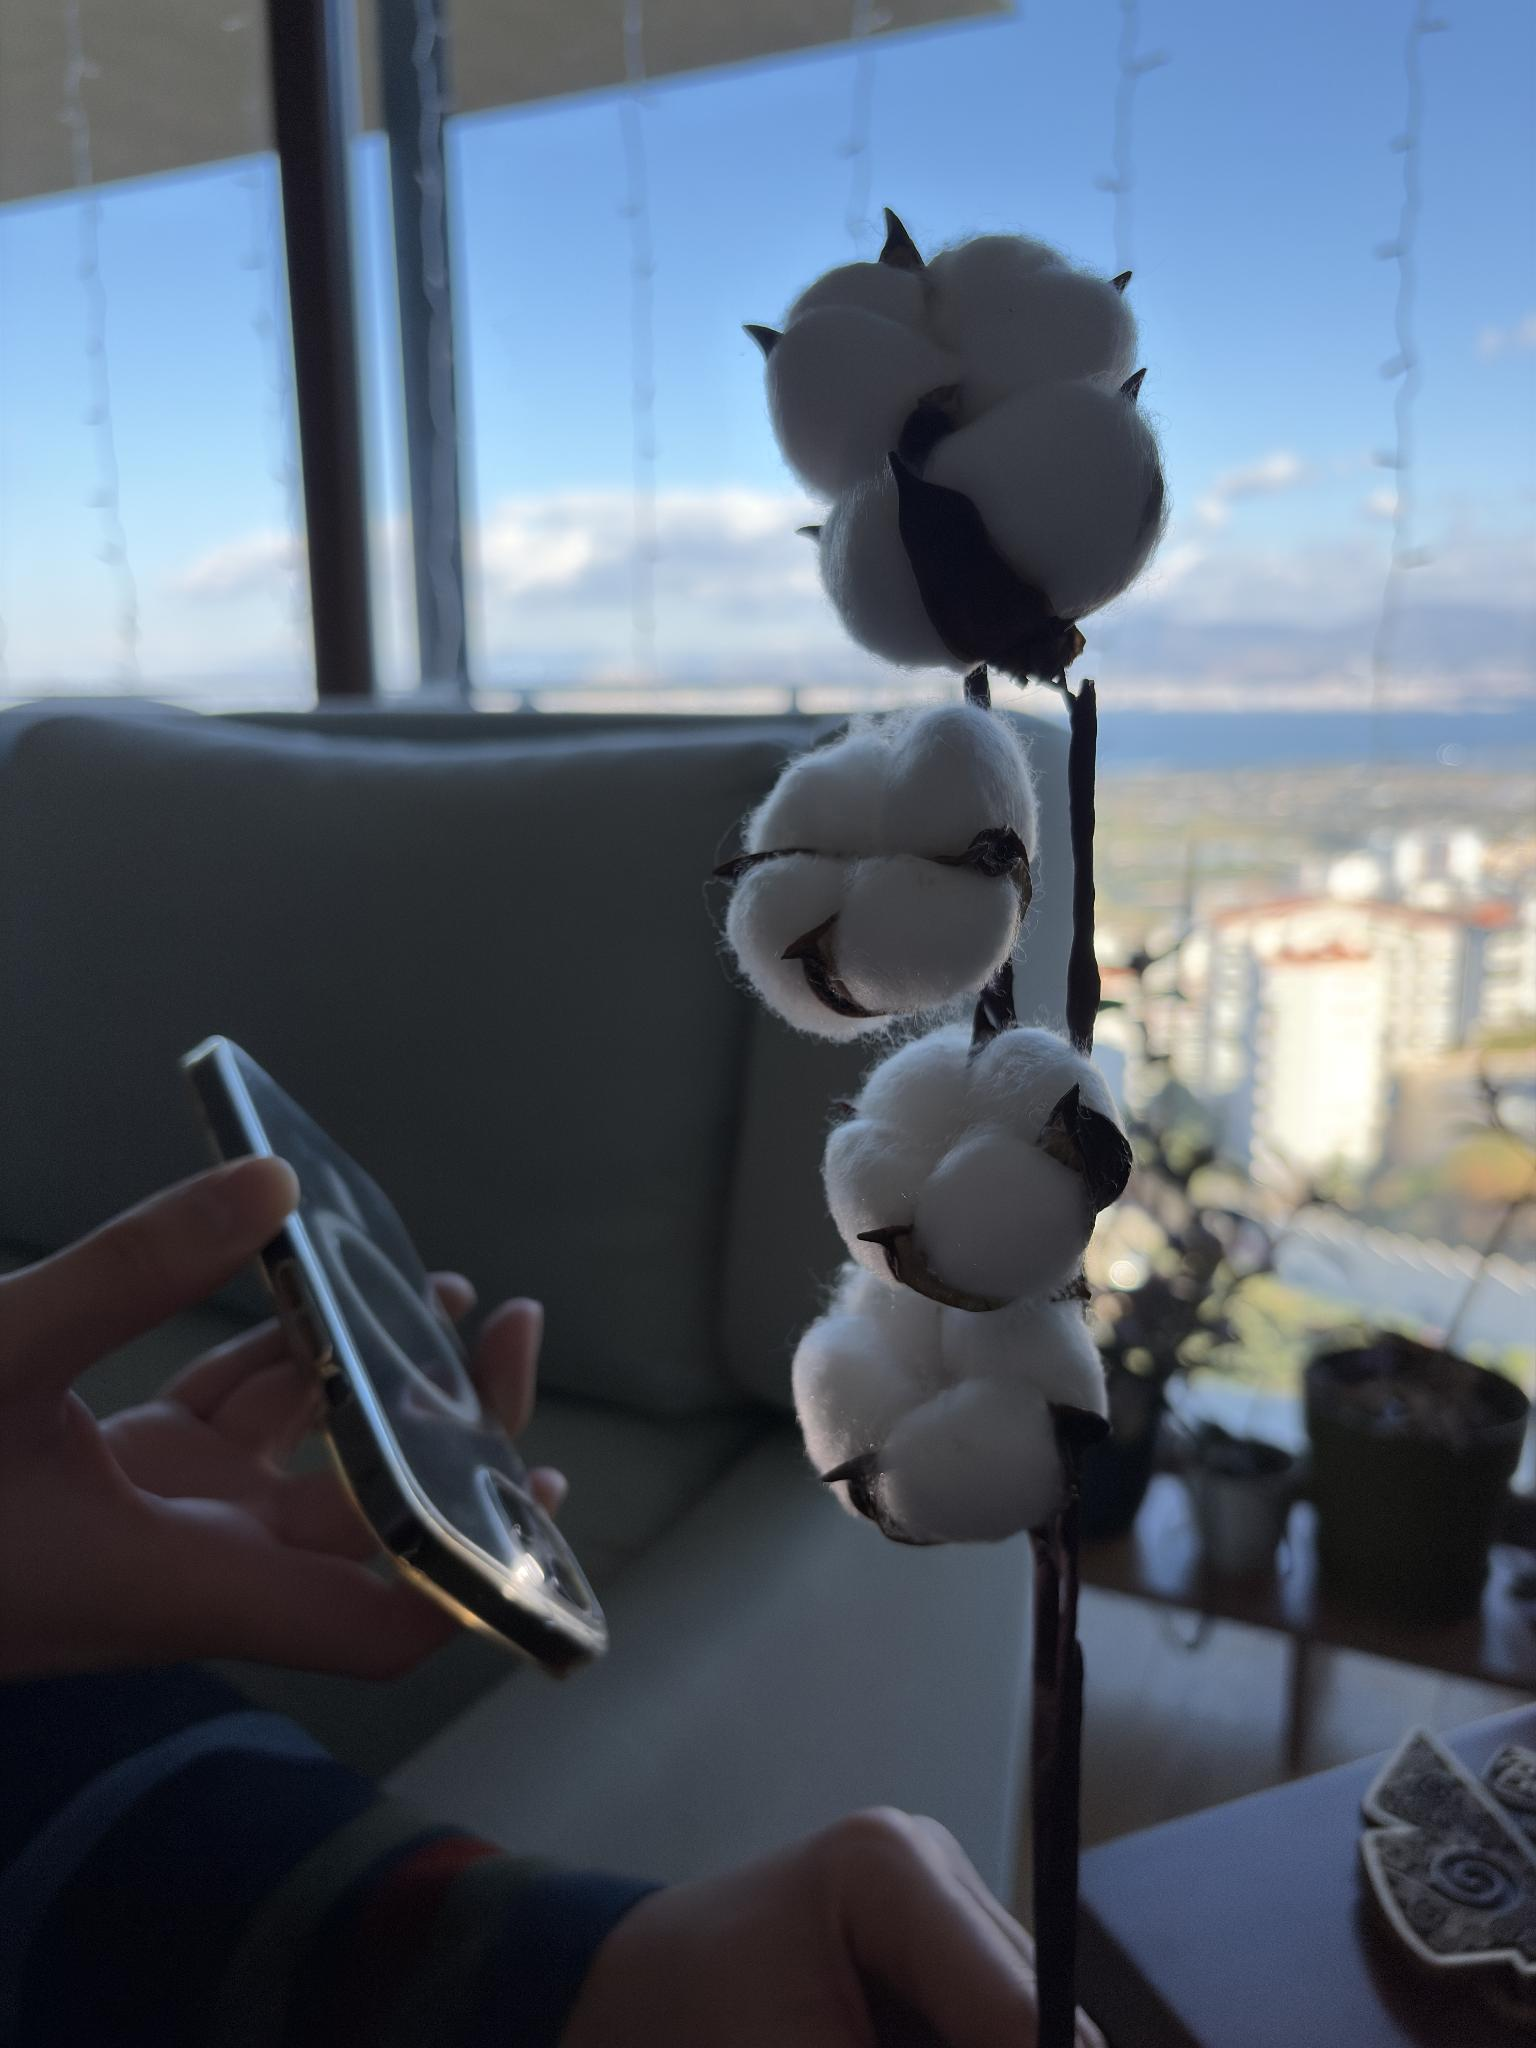cotton_boll: (926, 381, 1163, 619), (765, 306, 962, 497), (866, 1374, 1062, 1542), (913, 1127, 1091, 1303), (829, 855, 1021, 1014), (945, 268, 1137, 408), (818, 466, 950, 666), (726, 855, 857, 1037), (881, 705, 1034, 856), (792, 1309, 923, 1472), (939, 1301, 1105, 1416), (965, 1027, 1120, 1142), (745, 734, 889, 856), (847, 1026, 970, 1166), (829, 1263, 954, 1390), (926, 234, 1068, 345), (824, 1119, 933, 1248), (786, 263, 923, 327)
cotton_boll-cluster: (770, 226, 1175, 677), (713, 697, 1037, 1048), (786, 1250, 1120, 1555), (818, 1018, 1134, 1322)
